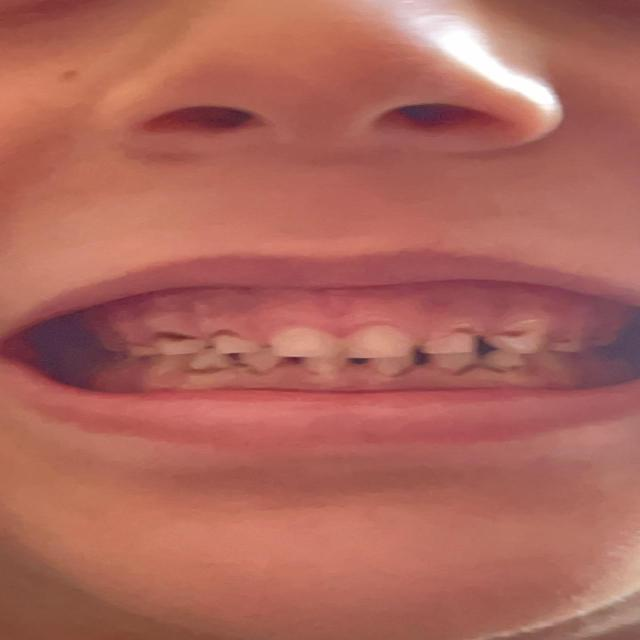tooth: (271, 332, 337, 358), (350, 333, 403, 358), (425, 330, 473, 352), (205, 334, 250, 353), (499, 336, 544, 352), (433, 357, 477, 371), (366, 357, 406, 371), (159, 333, 193, 349), (304, 358, 337, 374), (243, 358, 273, 372), (496, 352, 522, 366), (197, 355, 225, 366), (560, 342, 588, 352)
